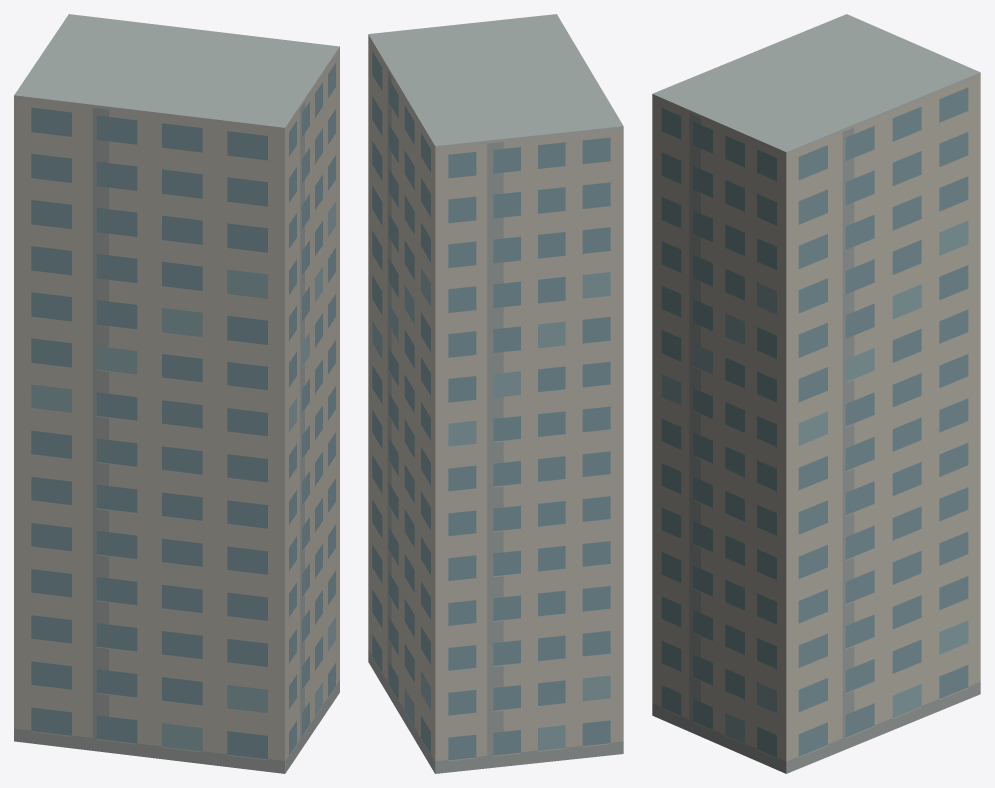
The model's file is residential-fbd3183d-6e60-463b-9aad-1c41939be0cc.glb.
3 views of the same model, side by side, from view 1: azimuth 30°, elevation 25°; view 2: azimuth 150°, elevation 25°; view 3: azimuth 270°, elevation 25° (orthographic). The views are drawn at different scales.
Parts seen in each view (by area): view 1: residential-fbd3183d-6e60-463b-9aad-1c41939be0cc.tmp; view 2: residential-fbd3183d-6e60-463b-9aad-1c41939be0cc.tmp; view 3: residential-fbd3183d-6e60-463b-9aad-1c41939be0cc.tmp.
Part boxes in pixels (x1,y1,x2,y2): residential-fbd3183d-6e60-463b-9aad-1c41939be0cc.tmp: (14, 14, 339, 773); residential-fbd3183d-6e60-463b-9aad-1c41939be0cc.tmp: (368, 14, 623, 773); residential-fbd3183d-6e60-463b-9aad-1c41939be0cc.tmp: (652, 14, 980, 773).
Bounding box in the file's own units: 23.84 × 50 × 23.95.
